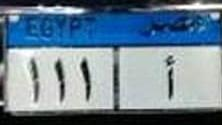1: (25, 56, 43, 105), (51, 58, 69, 102), (78, 57, 94, 104)
alif: (161, 51, 179, 101)
